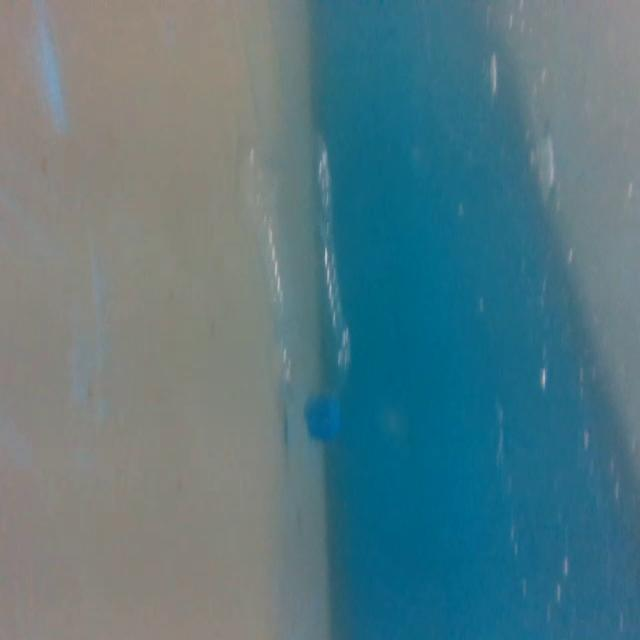plastic bottle: (239, 121, 374, 442)
